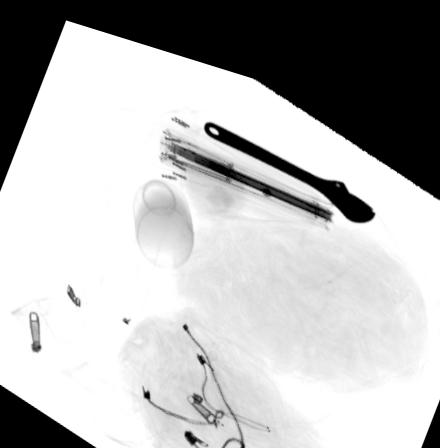Wrench: (201, 106, 377, 200)
